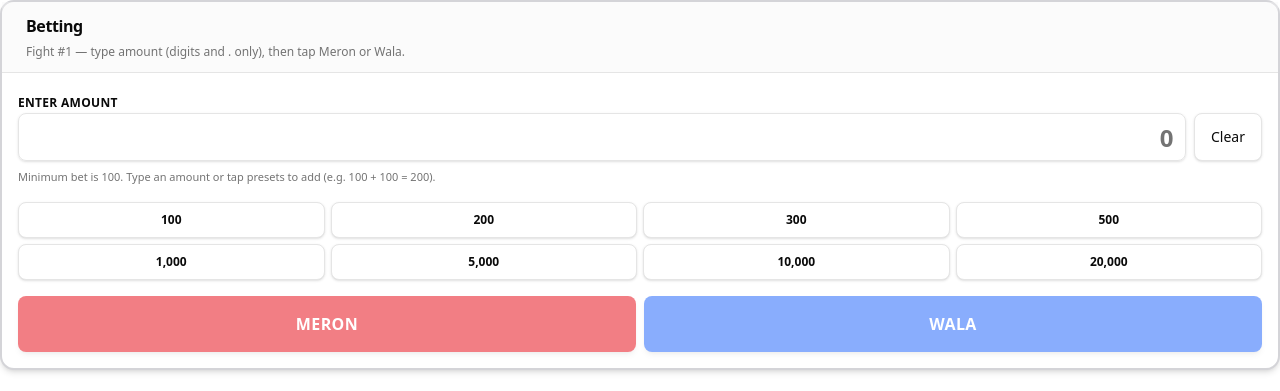
it: TellerBettingPanel › adds quick preset amounts cumulatively
Click the button "100" at (171, 220), box top-left (18, 202), bottom-right (324, 238)
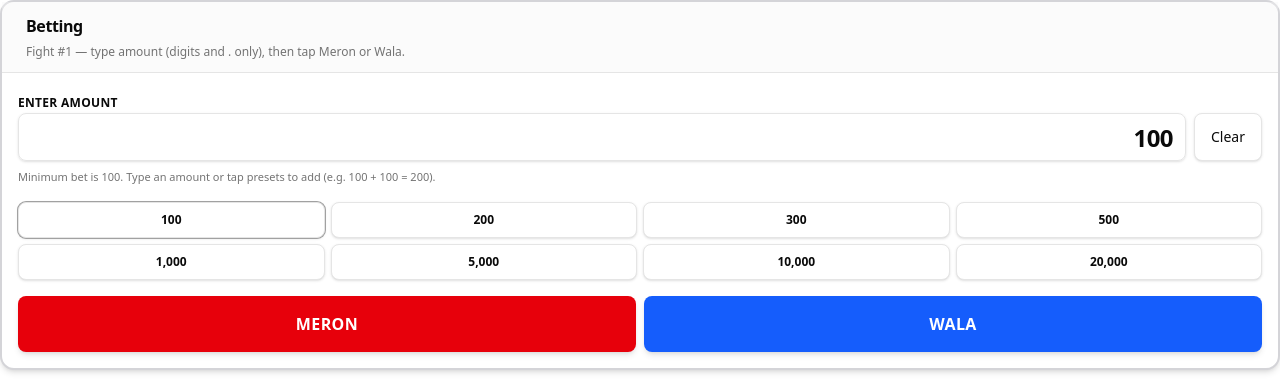
Click the button "100" at (171, 220), box top-left (18, 202), bottom-right (324, 238)
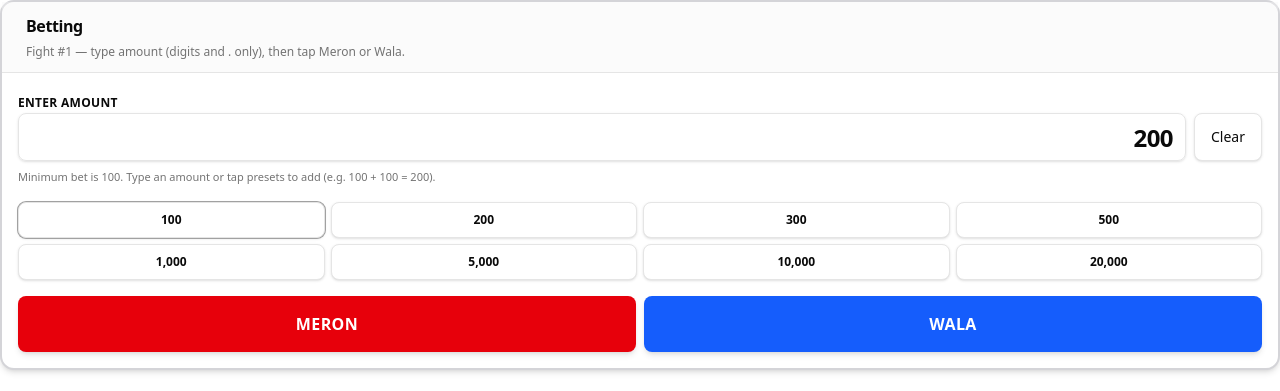
Click the button "100" at (171, 220), box top-left (18, 202), bottom-right (324, 238)
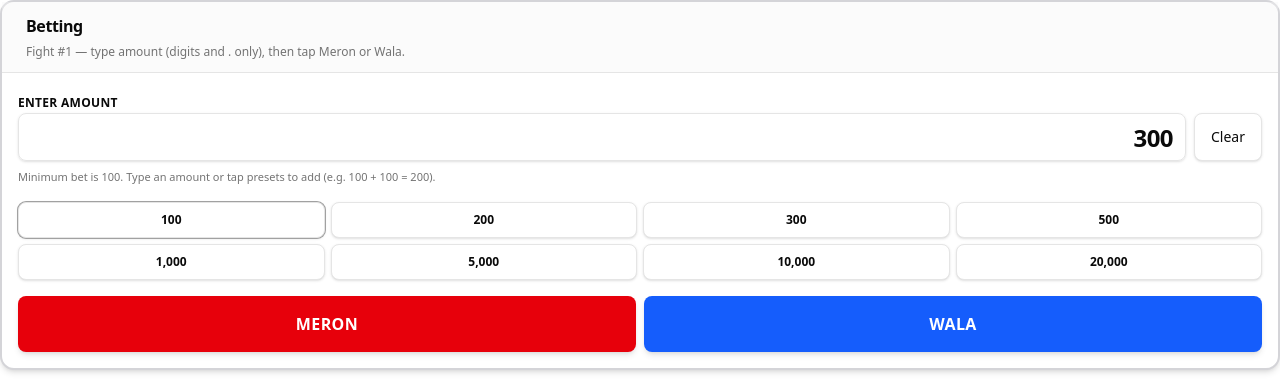
Check: the field labelled "Enter amount" holds "300", box top-left (18, 113), bottom-right (1186, 161)
